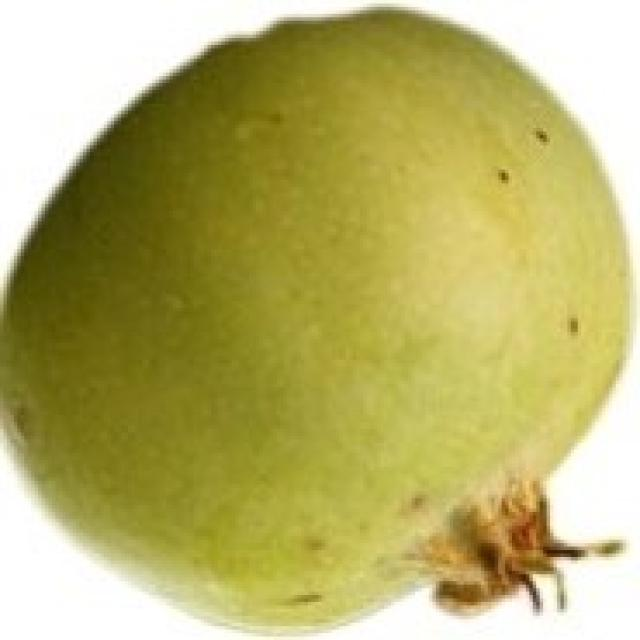50-_ripeness: (0, 12, 632, 618)
